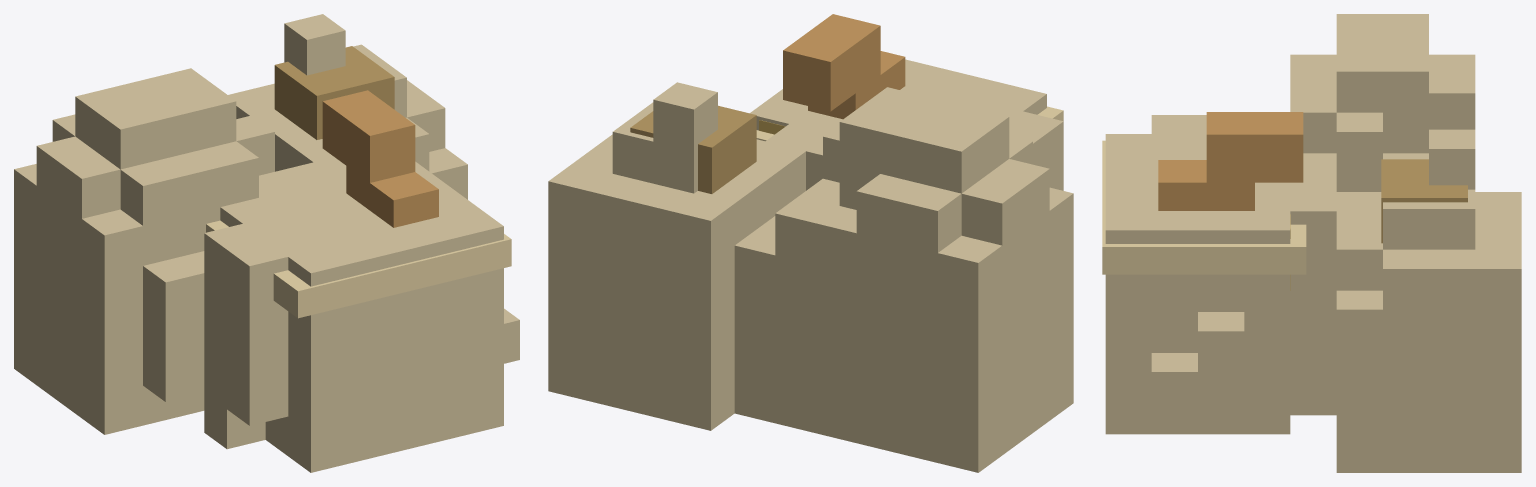
The model's file is seed-sack-pixor-blocky.glb.
3 views of the same model, side by side, from view 1: azimuth 30°, elevation 25°; view 2: azimuth 150°, elevation 25°; view 3: azimuth 270°, elevation 25° (orthographic). The views are drawn at different scales.
Visible parts, largest first — view 1: Sacks, Sack scoop, Sack rim, Sack ties; view 2: Sacks, Sack scoop, Sack ties; view 3: Sacks, Sack scoop, Sack rim, Sack ties.
Part boxes in pixels (left/top/right/bottom): Sacks: left=14, top=14, right=519, bottom=472; Sack scoop: left=322, top=90, right=438, bottom=227; Sack rim: left=206, top=220, right=511, bottom=318; Sack ties: left=274, top=46, right=394, bottom=139; Sacks: left=548, top=59, right=1073, bottom=472; Sack scoop: left=783, top=14, right=905, bottom=119; Sack ties: left=630, top=105, right=756, bottom=193; Sacks: left=1105, top=14, right=1521, bottom=472; Sack scoop: left=1158, top=112, right=1303, bottom=210; Sack rim: left=1102, top=140, right=1306, bottom=274; Sack ties: left=1381, top=159, right=1467, bottom=243.
Bounding box in the file's own units: 1.19 × 0.825 × 1.1.
